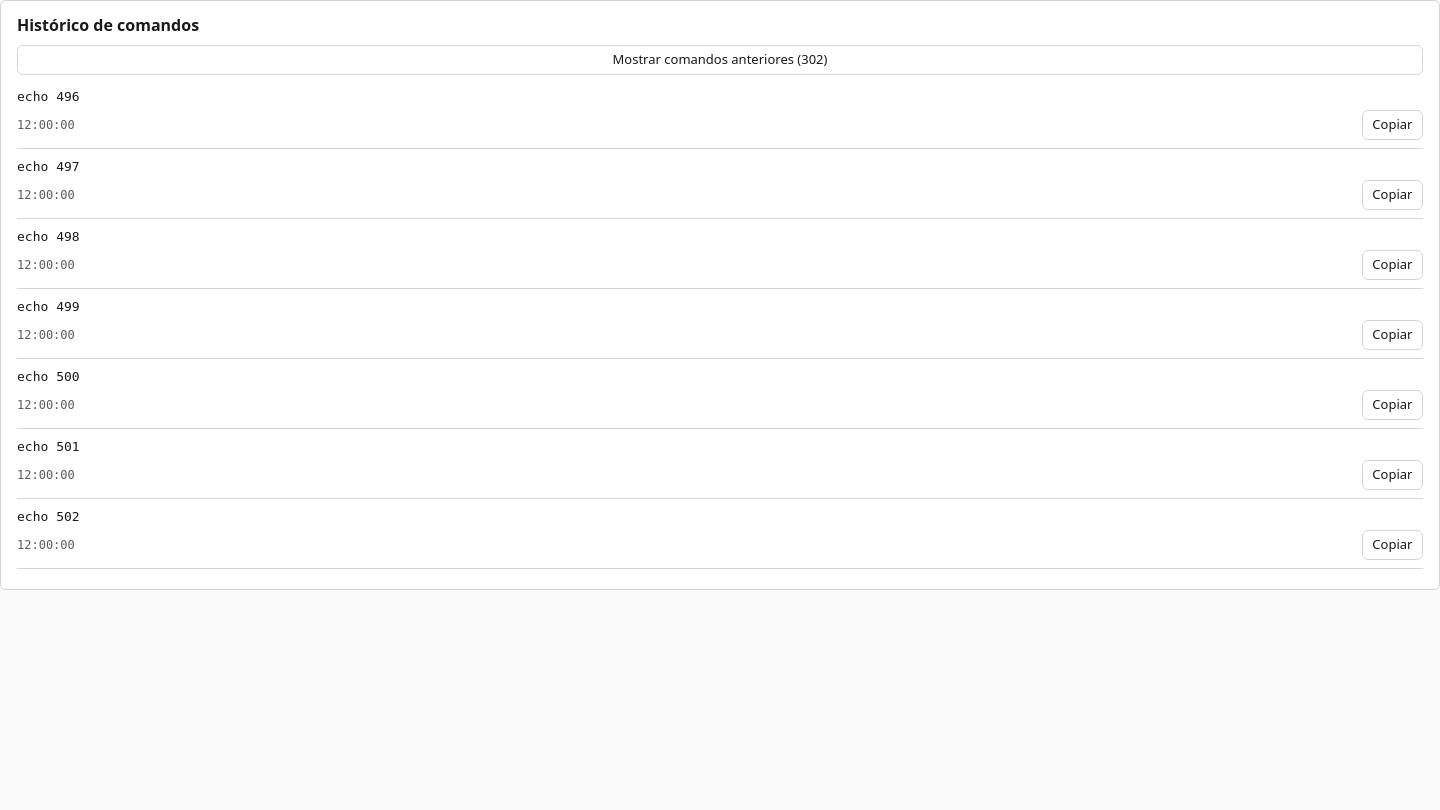
Scenario: history panel › reads every page there is
(page scrolled)
Click the button "Mostrar comandos anteriores (302)" at (720, 60), box 17,45 -> 1423,74
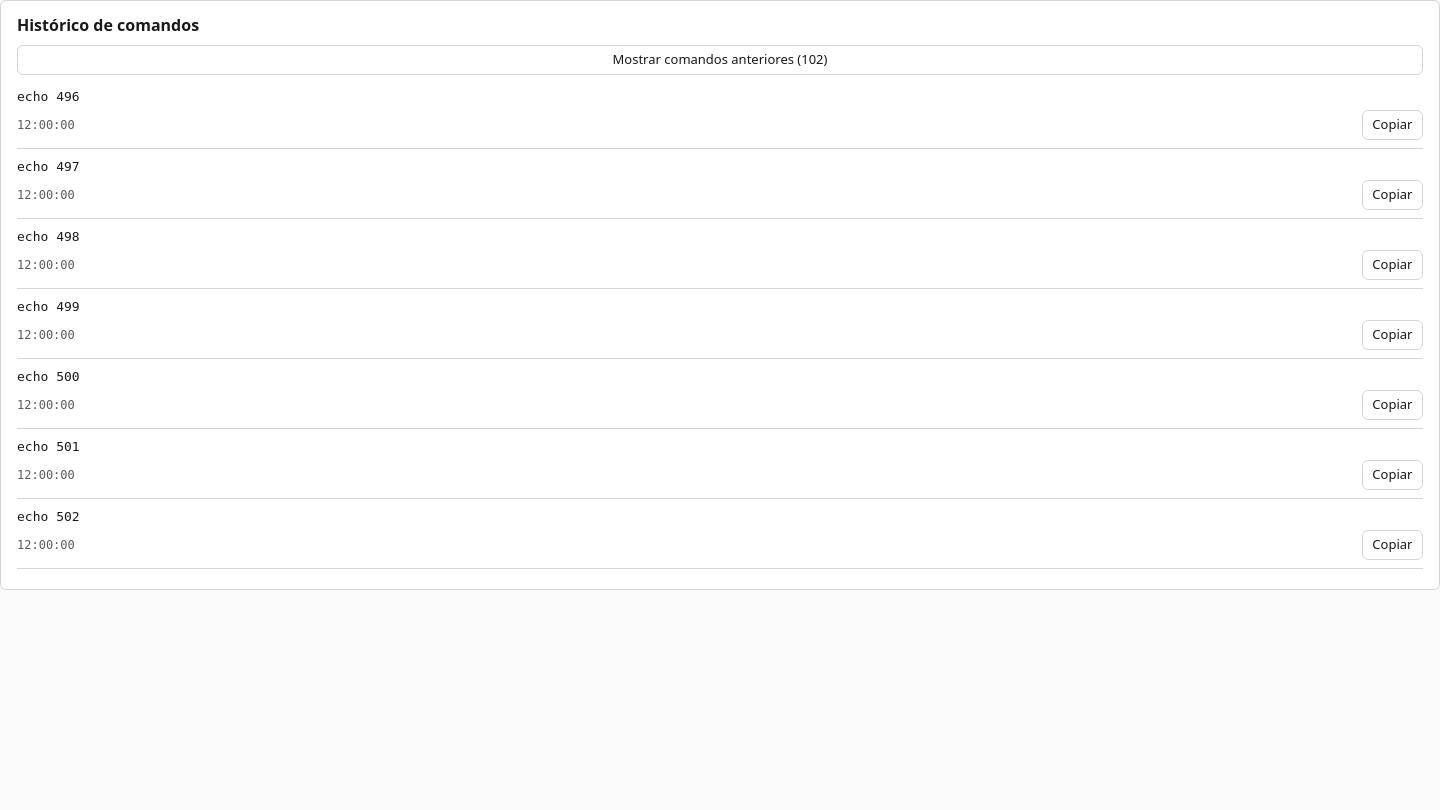
Click the button "Mostrar comandos anteriores (102)" at (720, 60), box 17,45 -> 1423,74
(page scrolled)
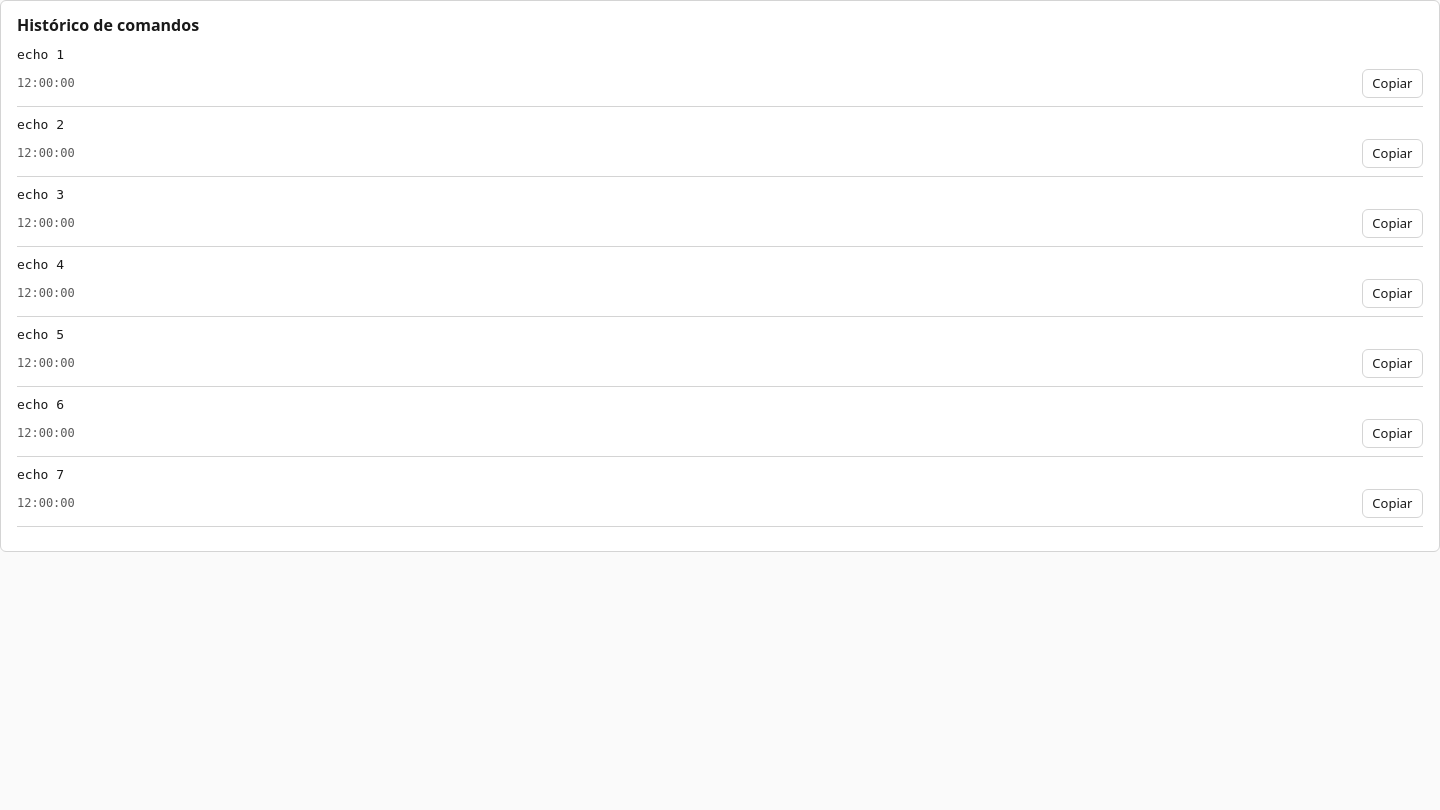
expect the text "echo 1" is shown: met, box 17,47 -> 64,62
expect the button "anteriores" is gone: met
